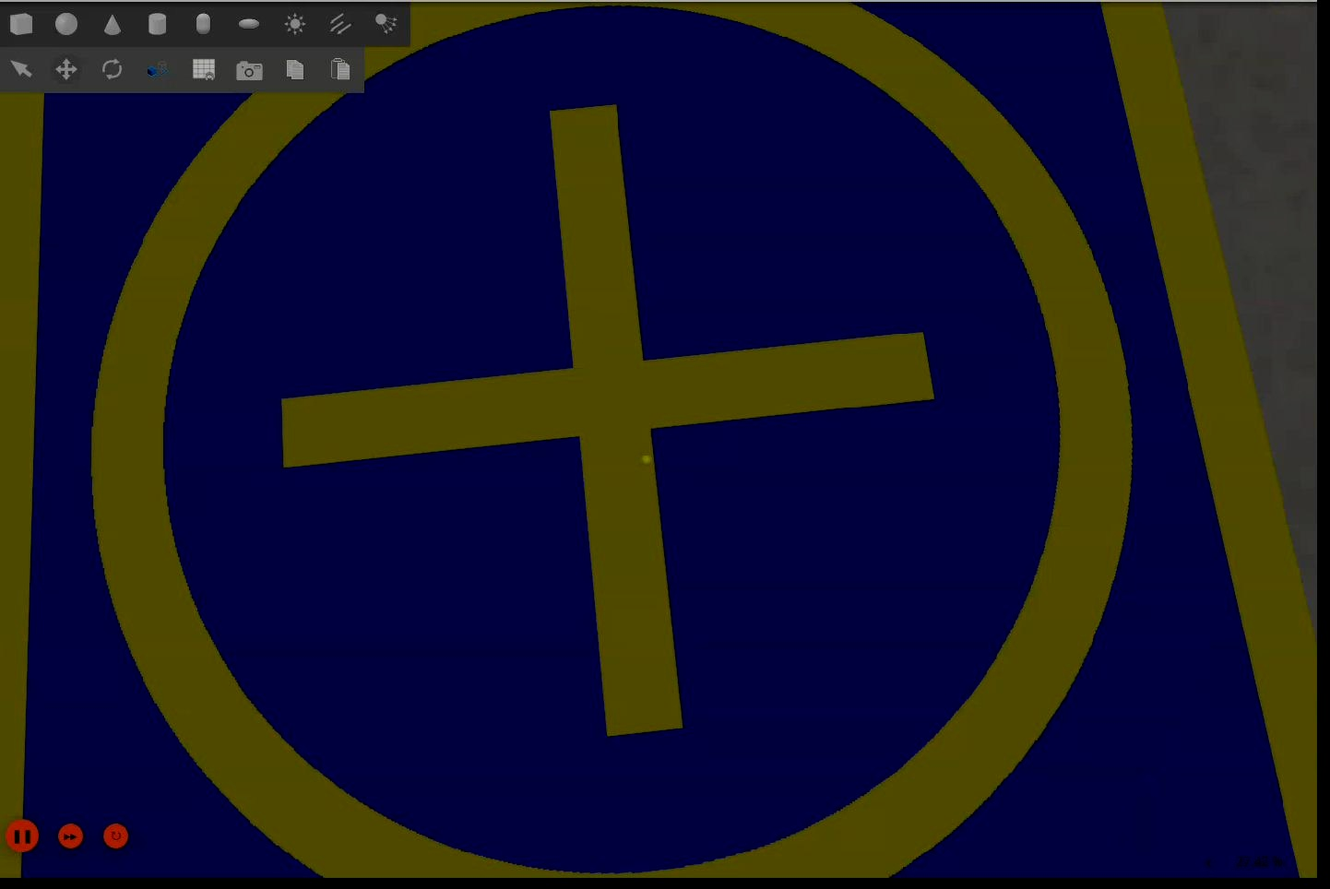small_base: (29, 4, 1320, 880)
